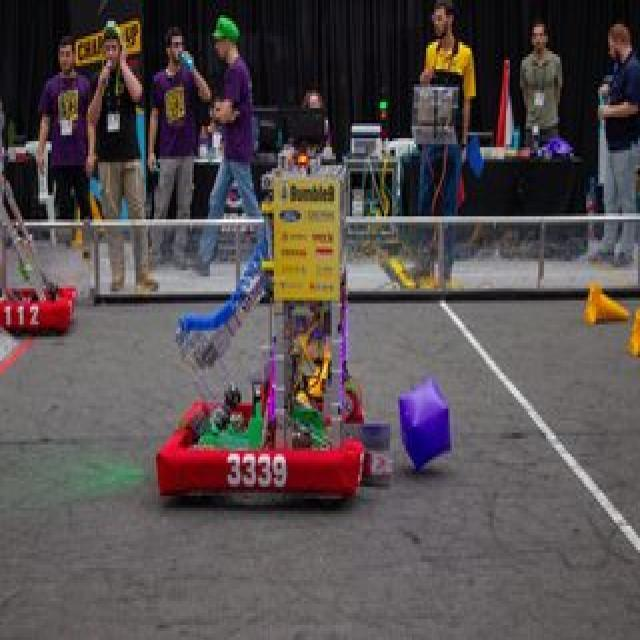robot: (135, 134, 395, 503), (0, 176, 82, 337)
